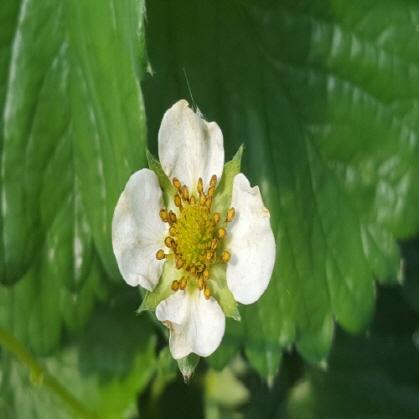Blossom Blight: (151, 172, 238, 300)
